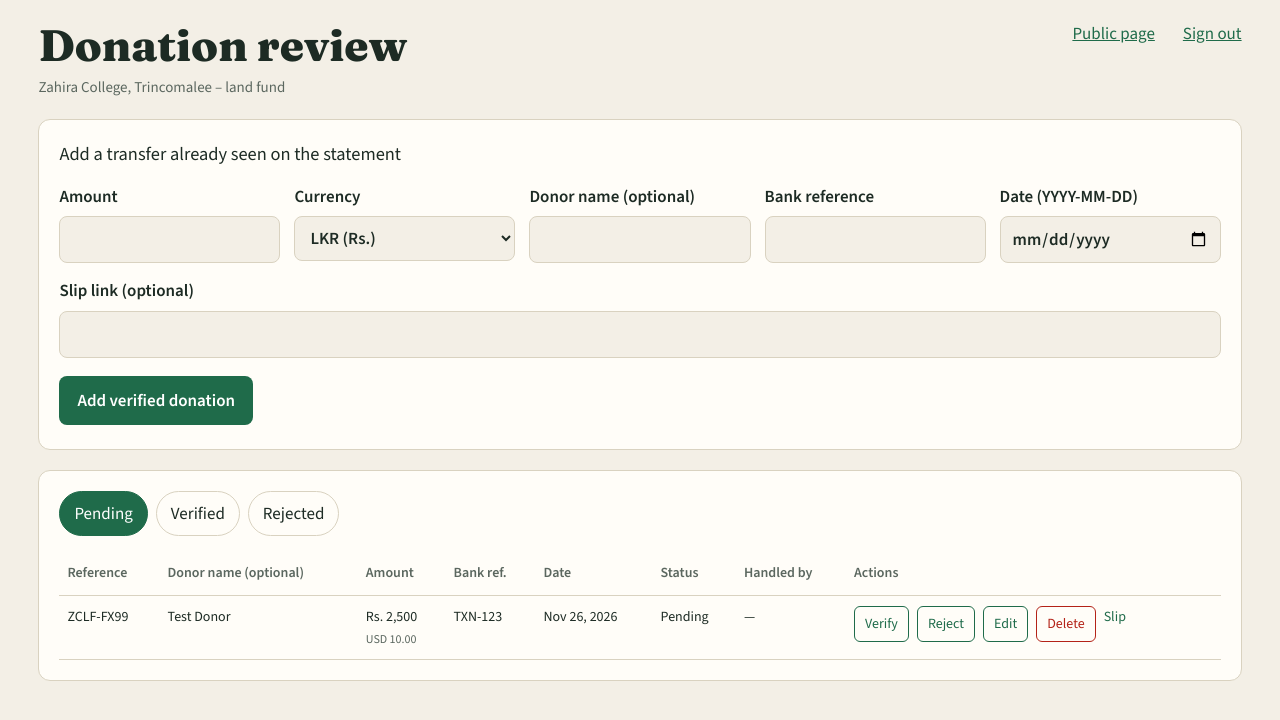
it: AdminApp › edits a foreign-currency record using its original amount
Later steps or results of the test are not shown.
Step 1. Click the button with aria-label "Edit ZCLF-FX99" → [1006, 624], box top-left (983, 606), bottom-right (1028, 642)
(page scrolled)
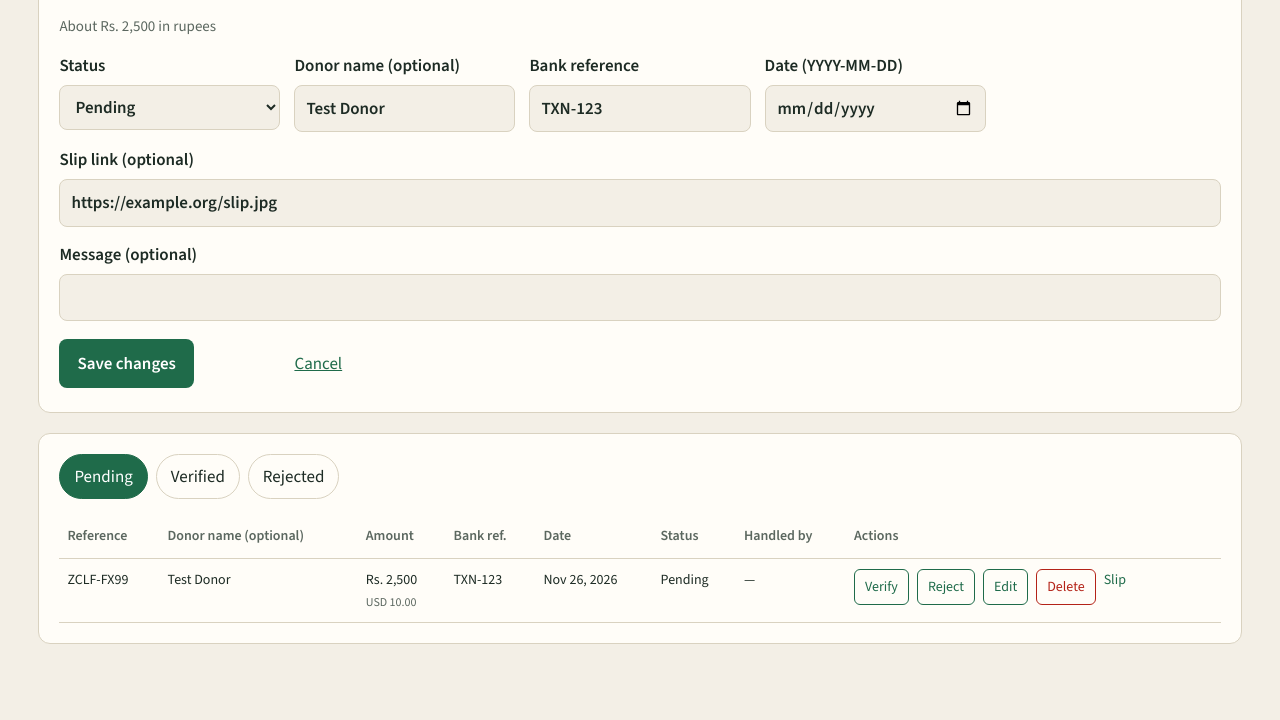
Check: the text "About Rs. 2,500 in rupees" is shown, box top-left (59, 16), bottom-right (216, 36)
